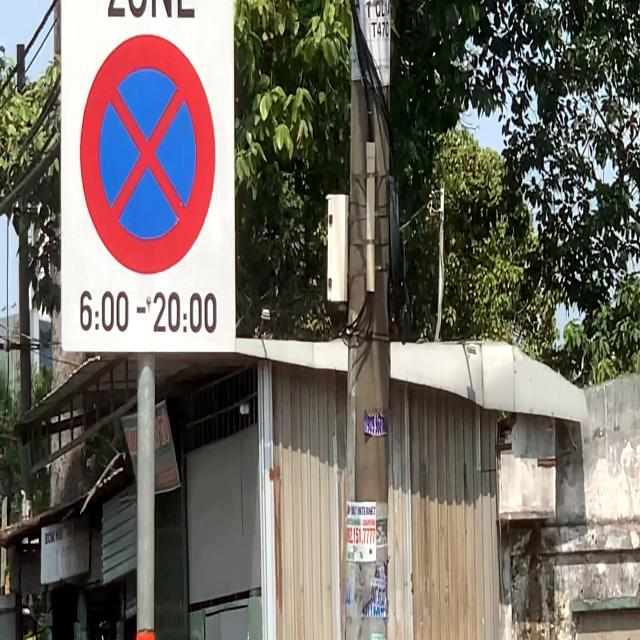Cam dung xe va do xe: (75, 27, 221, 282)
